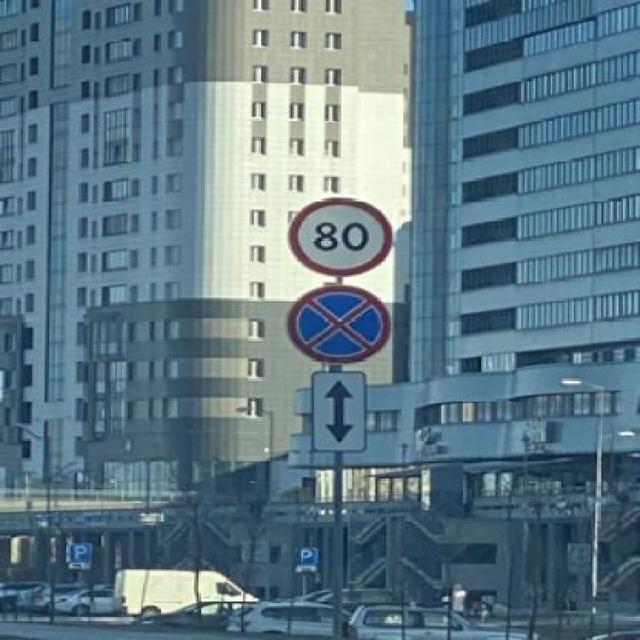forb_speed_over_80: (288, 195, 392, 273)
